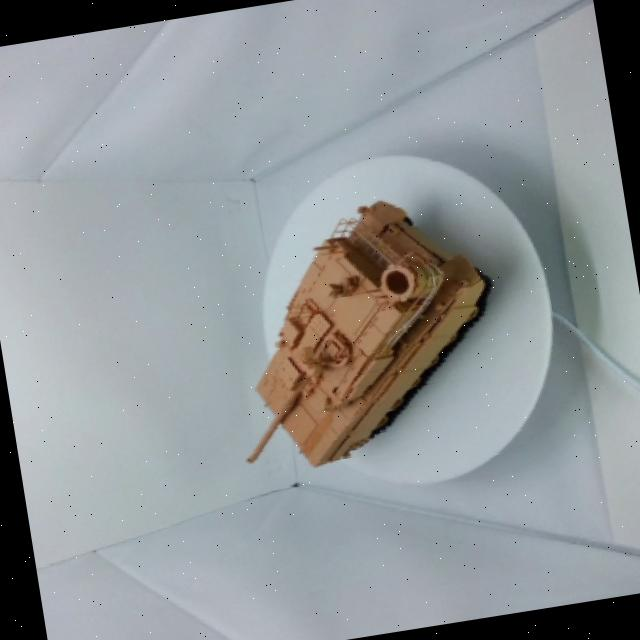korea tank: (182, 172, 530, 514)
